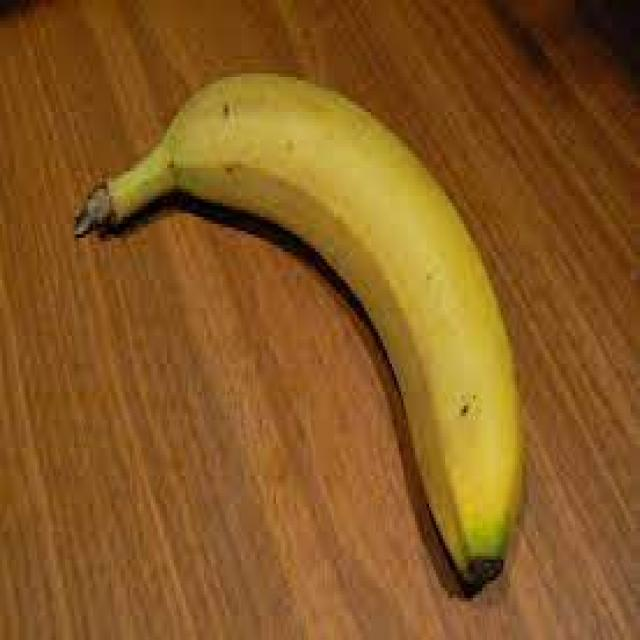banana: (72, 66, 524, 598)
